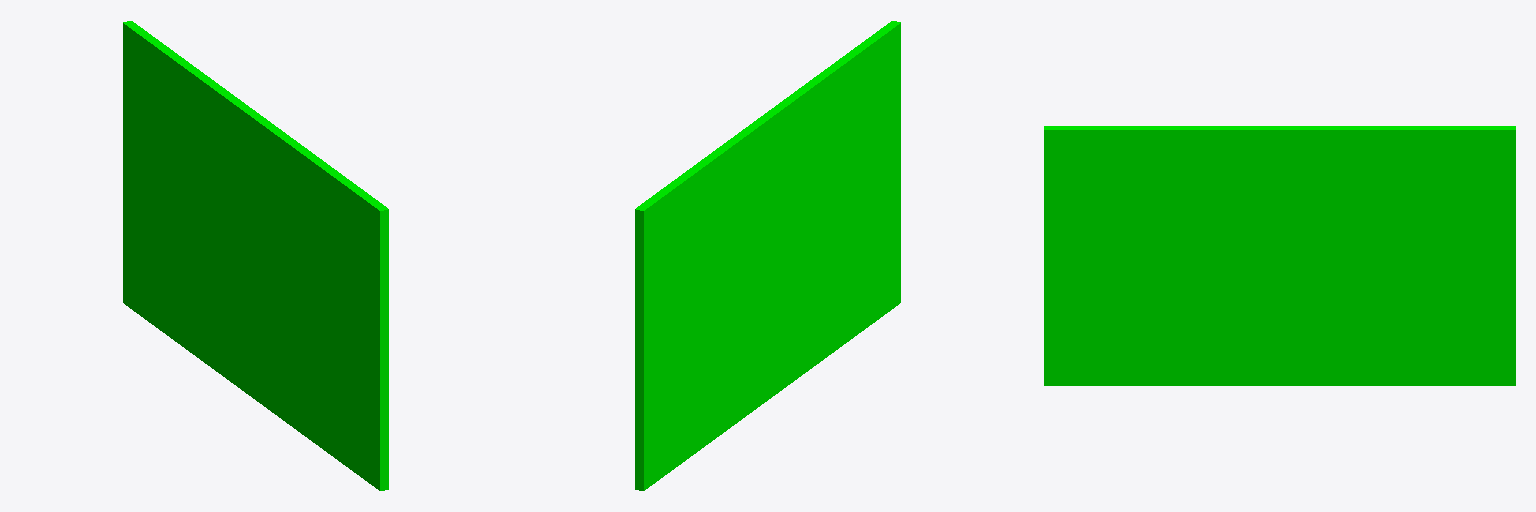
robot.urdf — box:
<?xml version="1.0" ?>
<!-- =================================================================================== -->
<!-- |    This document was autogenerated by xacro from urdf/box.xacro                 | -->
<!-- |    EDITING THIS FILE BY HAND IS NOT RECOMMENDED                                 | -->
<!-- =================================================================================== -->
<robot xmlns:xacro="http://www.ros.org/wiki/xacro" name="box">
  <link name="box">
    <visual>
      <geometry>
        <box size="6 10  0.2"/>
      </geometry>
      <origin rpy="0 1.5707 0" xyz="0 0 0"/>
      <material name="green">
        <color rgba="0 1 0 1"/>
      </material>
    </visual>
    <collision>
      <geometry>
        <box size="6 10  0.2"/>
      </geometry>
      <origin rpy="0 1.5707 0" xyz="0 0 0"/>
    </collision>
    <inertial>
      <mass value="20"/>
      <inertia ixx="0.0" ixy="0" ixz="0" iyy="0.0" iyz="0" izz="0.0"/>
    </inertial>
  </link>
</robot>

--- Render facts (derived) ---
The picture shows the robot from 3 angles, left to right: view 1: azimuth 30°, elevation 25°; view 2: azimuth 150°, elevation 25°; view 3: azimuth 270°, elevation 25°; orthographic projection.
Robot: box — 1 links, 0 joints (none); root link box; default pose: every joint at zero.
Visible links, largest first — view 1: box; view 2: box; view 3: box.
Boxes of the visible links, box(x1,y1,x2,y2) form: box: box(123, 21, 388, 490); box: box(635, 21, 900, 490); box: box(1044, 126, 1515, 385).
Bounding box of the posed robot: 0.2006 × 10 × 6 m (x, y, z).
Geometry: primitives only (box / cylinder / sphere), no mesh files.